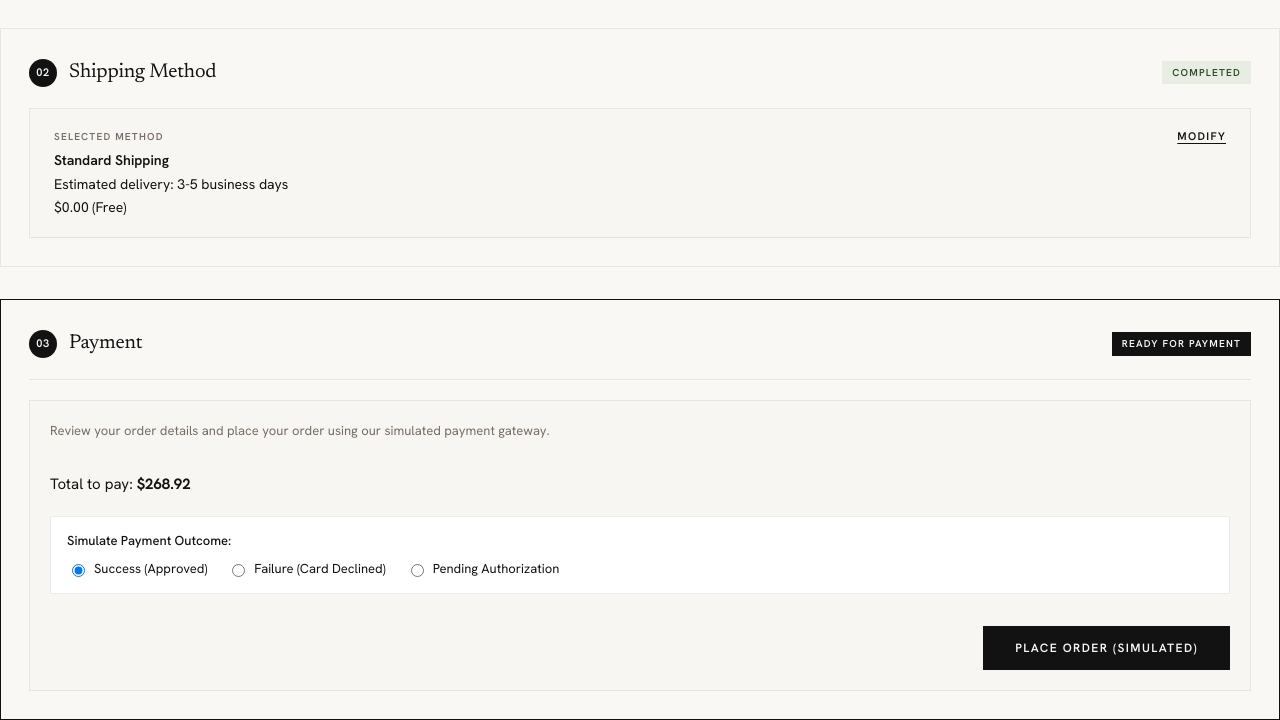
Scenario: ContactAndAddressForm › displays out of stock error and return to cart link when API returns out_of_stock
(page scrolled)
What coordinates should you click on to do the following:
click the button with test id "place-order-button"
I would click on:
 (1107, 648)
Its box is top-left (983, 626), bottom-right (1230, 670).
(page scrolled)
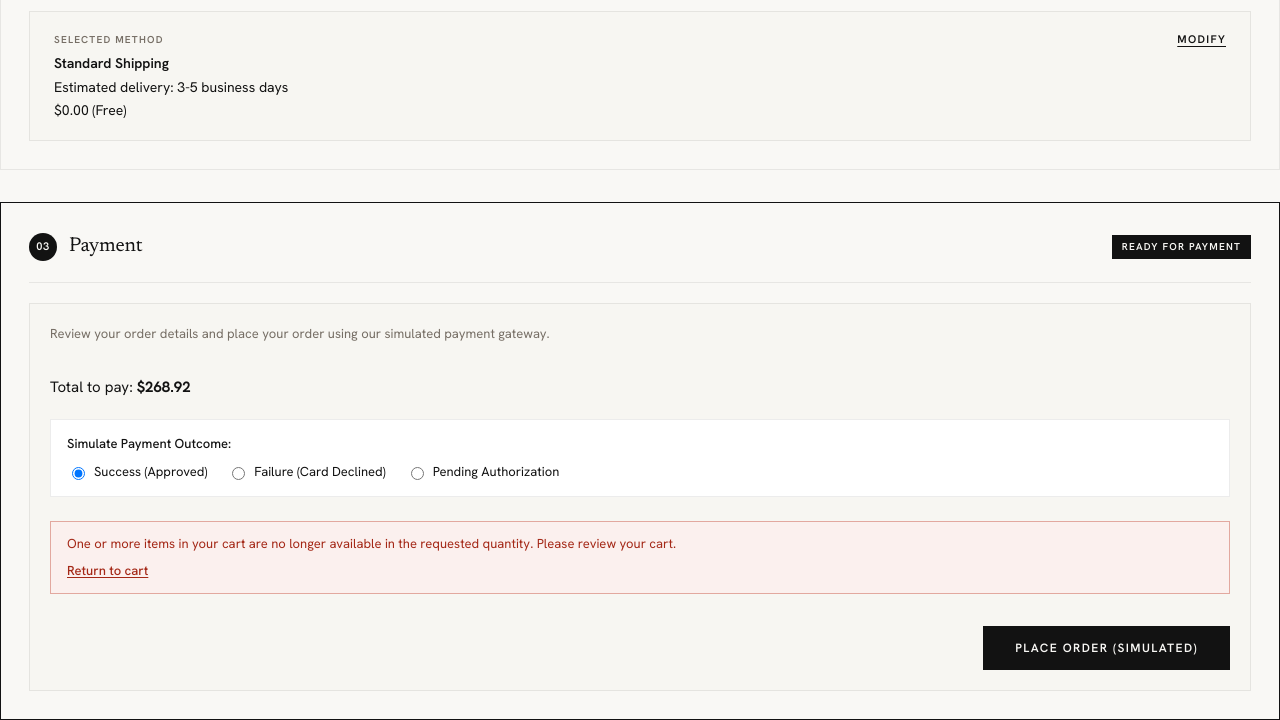
Expected: the message with test id "payment-error" reads "One or more items in your cart are no longer available in the requested quantity", top-left (67, 535), bottom-right (676, 552)
Expected: the link with test id "out-of-stock-cart-link" reads "Return to cart", top-left (67, 561), bottom-right (148, 581)
